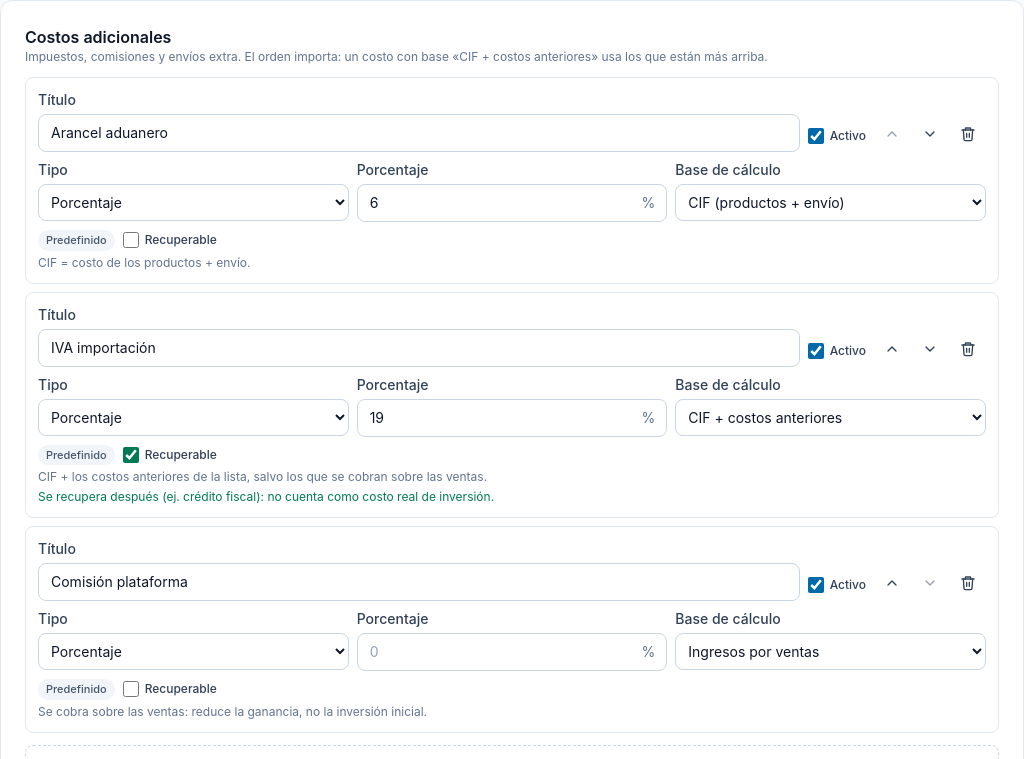
CostList › permite marcar y desmarcar un costo como recuperable
Click the checkbox named "Recuperable: Arancel aduanero" at (131, 240), box left=123, top=232, right=139, bottom=248
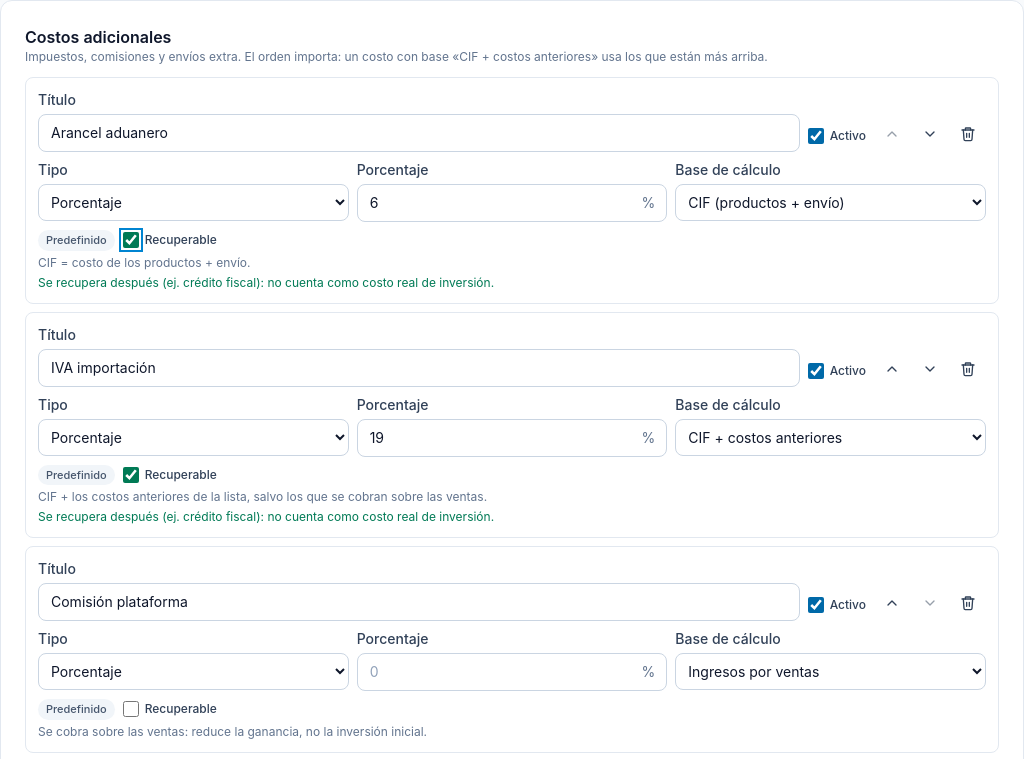
Check: the text "no cuenta como costo real" below "CIF = costo de los productos + envío." is shown, box left=38, top=274, right=494, bottom=290
